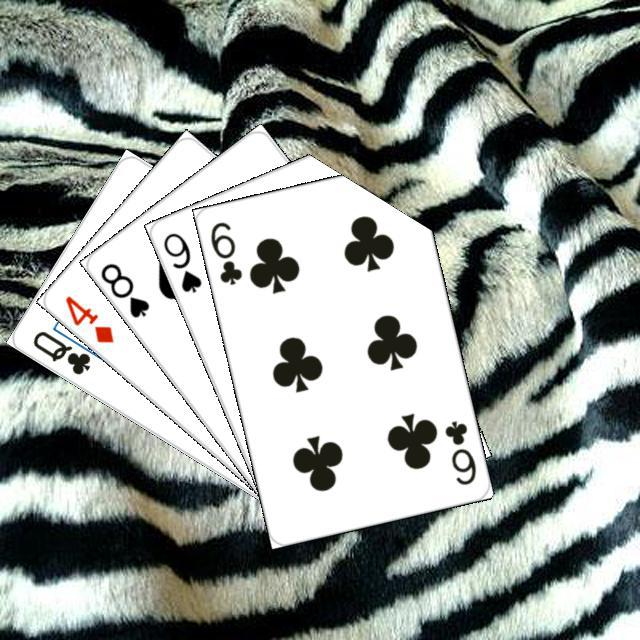4d: (60, 290, 116, 345)
6c: (439, 415, 478, 487), (205, 217, 244, 287)
8s: (95, 258, 151, 320)
9s: (158, 227, 204, 295)
Qc: (27, 319, 105, 377)
